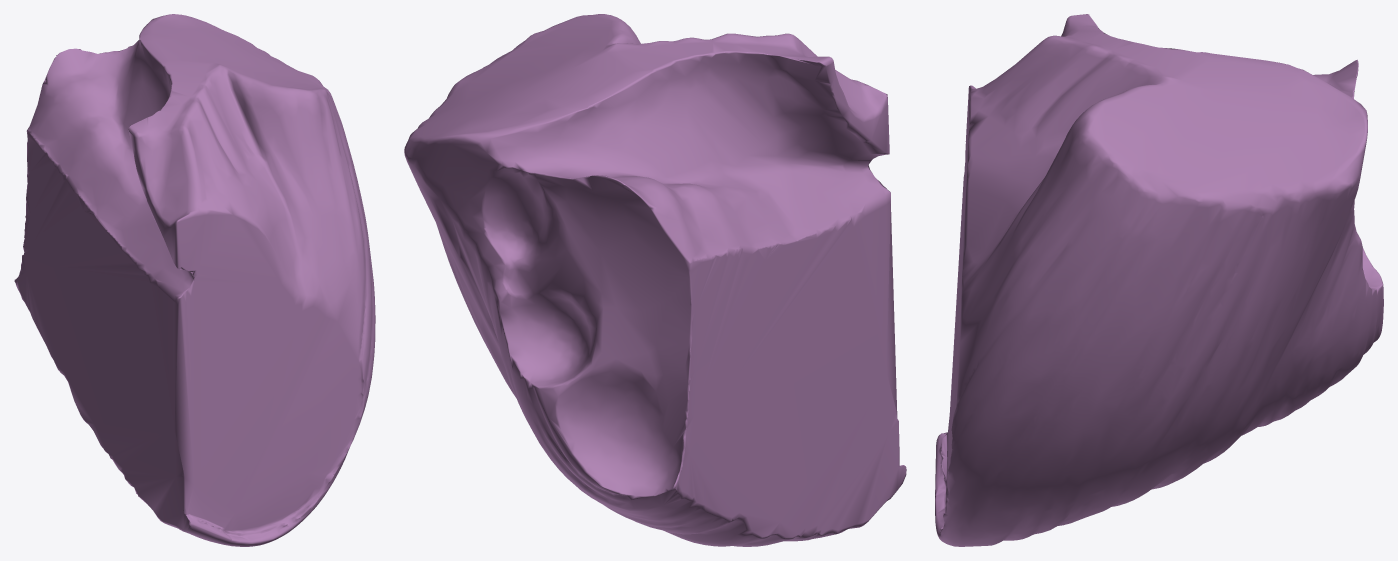
The picture shows the model from 3 angles, left to right: view 1: azimuth 30°, elevation 25°; view 2: azimuth 150°, elevation 25°; view 3: azimuth 270°, elevation 25°; orthographic projection. The views are drawn at different scales.
Parts seen in each view (by area): view 1: 左侧脑桥; view 2: 左侧脑桥; view 3: 左侧脑桥.
Part boxes in pixels (box(x1,y1,x2,y2)): 左侧脑桥: box(14, 14, 375, 546); 左侧脑桥: box(404, 14, 906, 546); 左侧脑桥: box(935, 14, 1383, 546).
Bounding box in the file's own units: 0.0303 × 0.0492 × 0.0409.
